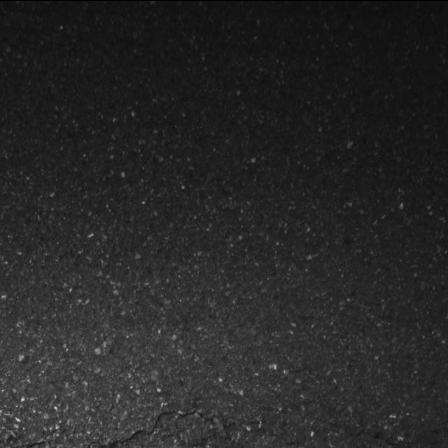crack: (89, 405, 277, 448), (14, 418, 71, 448)
